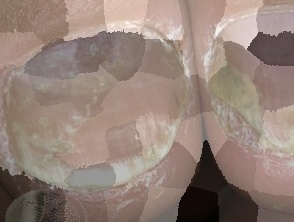Nail_psoriasis: (0, 0, 228, 221), (188, 26, 285, 172), (134, 114, 184, 172)
